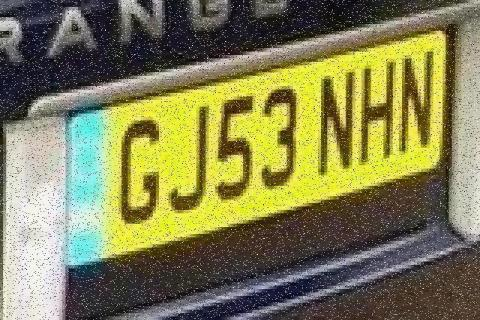LicensePlate: (26, 14, 464, 294)
